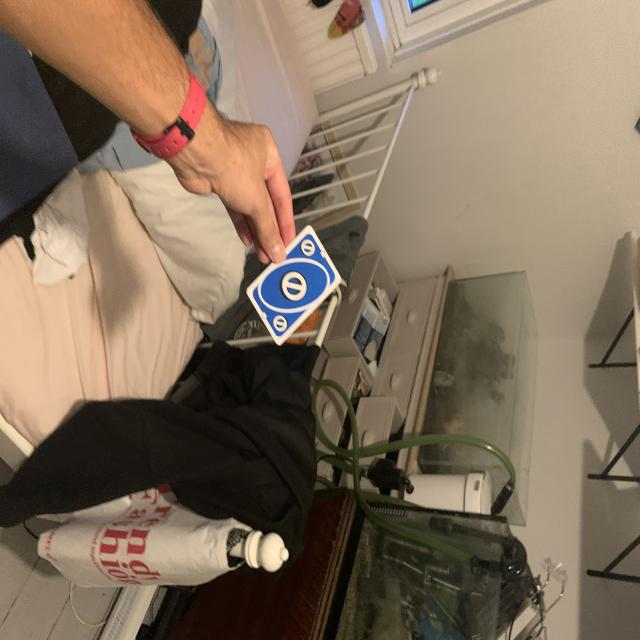lblueskip-20: (294, 235, 319, 260)
